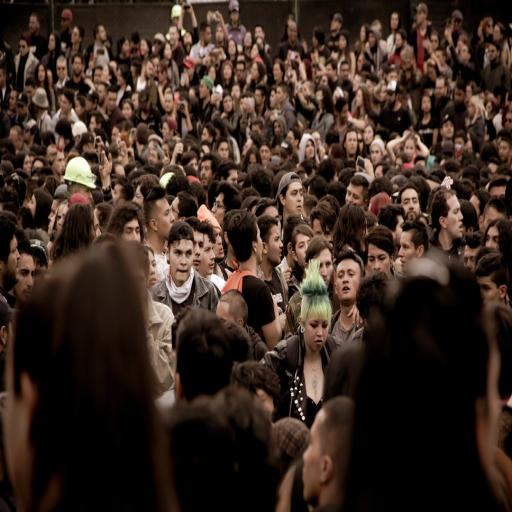face: (336, 259, 361, 305), (301, 313, 329, 353), (169, 240, 193, 286), (14, 253, 35, 303), (0, 237, 19, 290), (441, 195, 463, 239), (399, 232, 422, 272), (367, 244, 392, 278), (314, 248, 334, 287), (155, 198, 174, 239), (264, 225, 283, 265), (477, 276, 506, 302), (280, 183, 303, 214), (199, 236, 215, 277), (293, 234, 310, 268), (401, 189, 420, 219), (193, 230, 204, 271), (212, 193, 226, 225), (147, 252, 157, 289), (200, 160, 212, 188), (345, 131, 357, 157), (52, 152, 65, 175), (371, 144, 382, 165)
